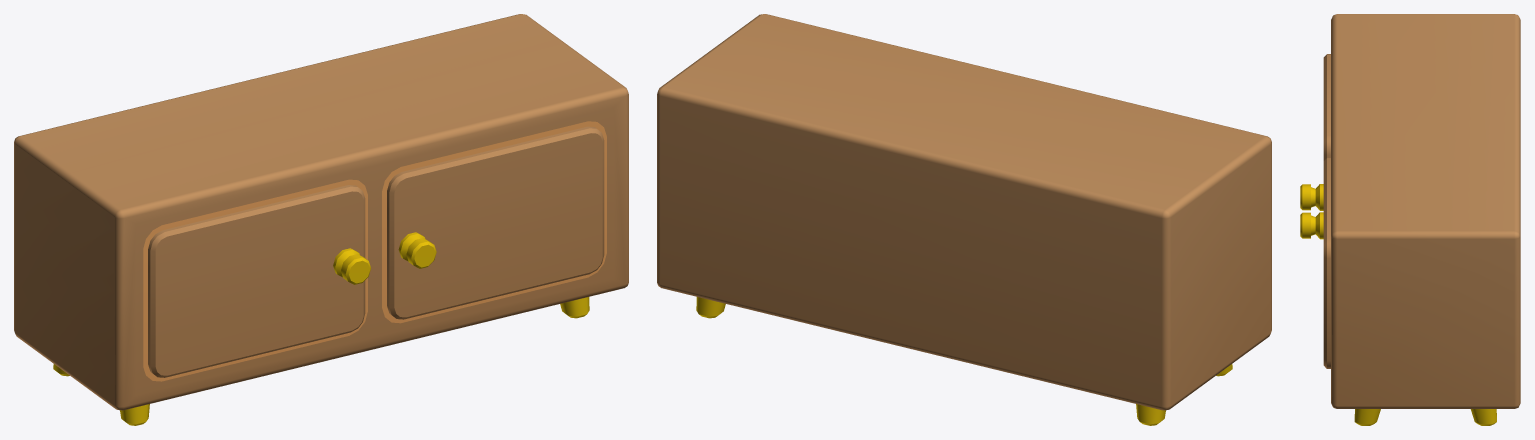
Rendered from Wardrobe_43.glb.
3 renders of one model, left to right at view 1: azimuth 30°, elevation 25°; view 2: azimuth 150°, elevation 25°; view 3: azimuth 270°, elevation 25°, orthographic. The views are drawn at different scales.
Parts seen in each view (by area): view 1: Wardrobe_43, Wardrobe_43 Door_1, Wardrobe_43 Door_2; view 2: Wardrobe_43; view 3: Wardrobe_43, Wardrobe_43 Door_2, Wardrobe_43 Door_1.
Boxes of the visible parts, x1,y1,x2,y2 form: Wardrobe_43: (14, 14, 628, 425); Wardrobe_43 Door_1: (148, 185, 370, 377); Wardrobe_43 Door_2: (387, 126, 604, 319); Wardrobe_43: (657, 14, 1271, 425); Wardrobe_43: (1331, 14, 1520, 425); Wardrobe_43 Door_2: (1300, 157, 1330, 368); Wardrobe_43 Door_1: (1300, 54, 1330, 210).
Size of the model in its own units: 0.9384 by 0.404 by 0.3936.
Materials: 1 (1 with a texture image).
